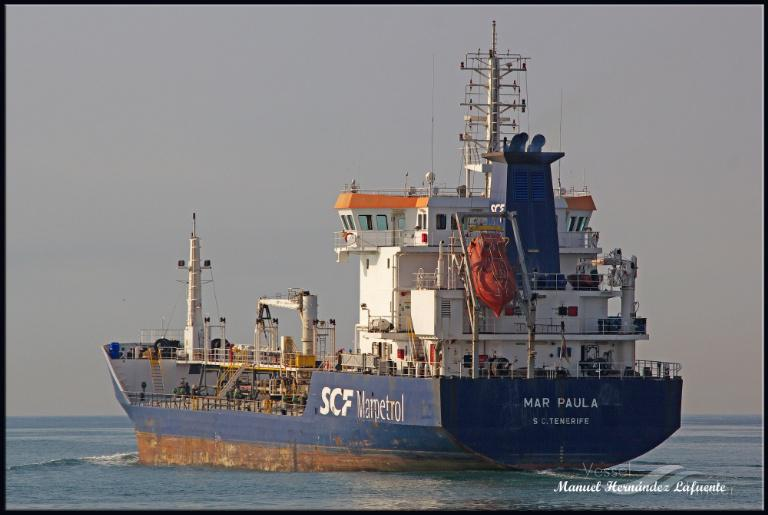OCR: (313, 378, 419, 430), (521, 388, 606, 432)
